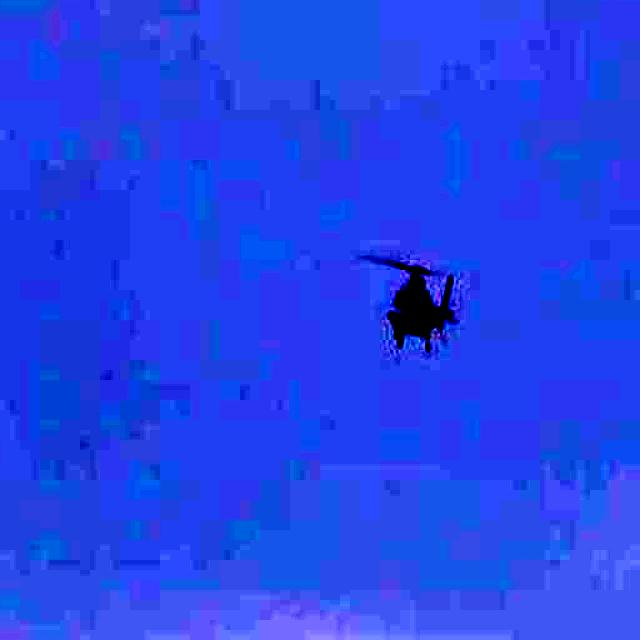drone: (329, 216, 512, 372)
